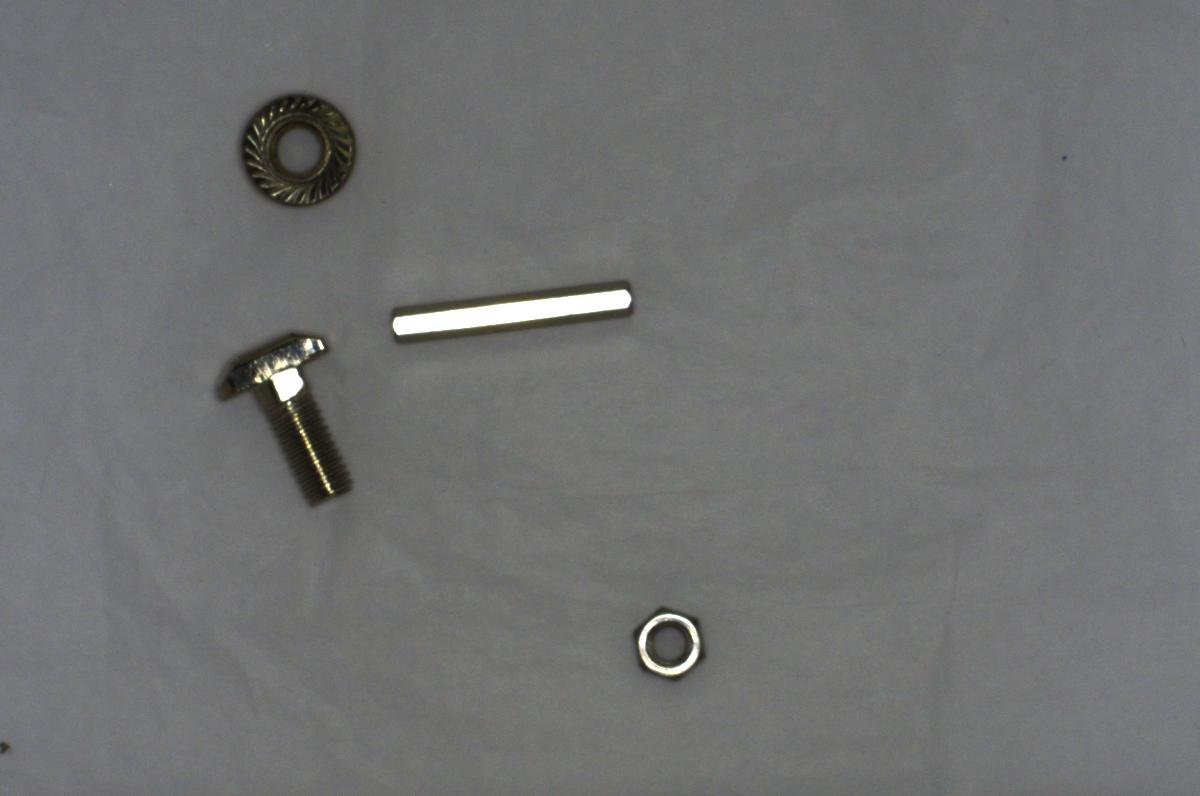Double hexagonal column: (387, 267, 644, 346)
Flange nut: (240, 87, 361, 212)
Hexagon nut: (625, 599, 710, 688)
T-shaped screw: (208, 325, 354, 512)
